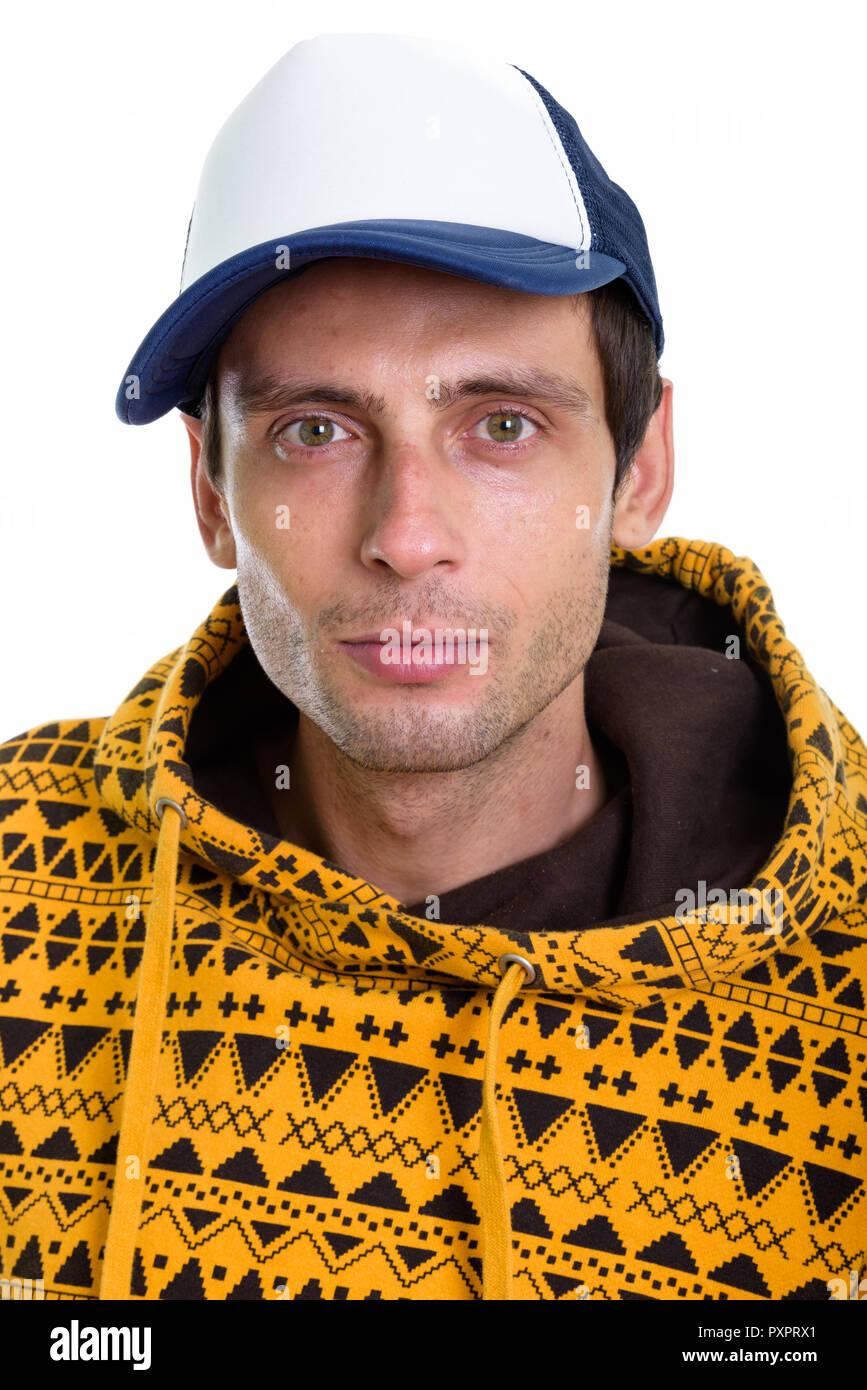cap: (57, 7, 733, 447)
